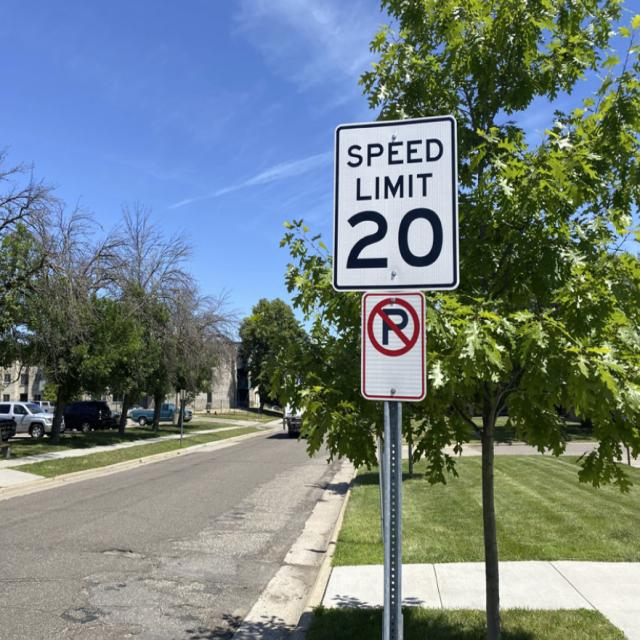speedLimit20: (335, 128, 453, 287)
